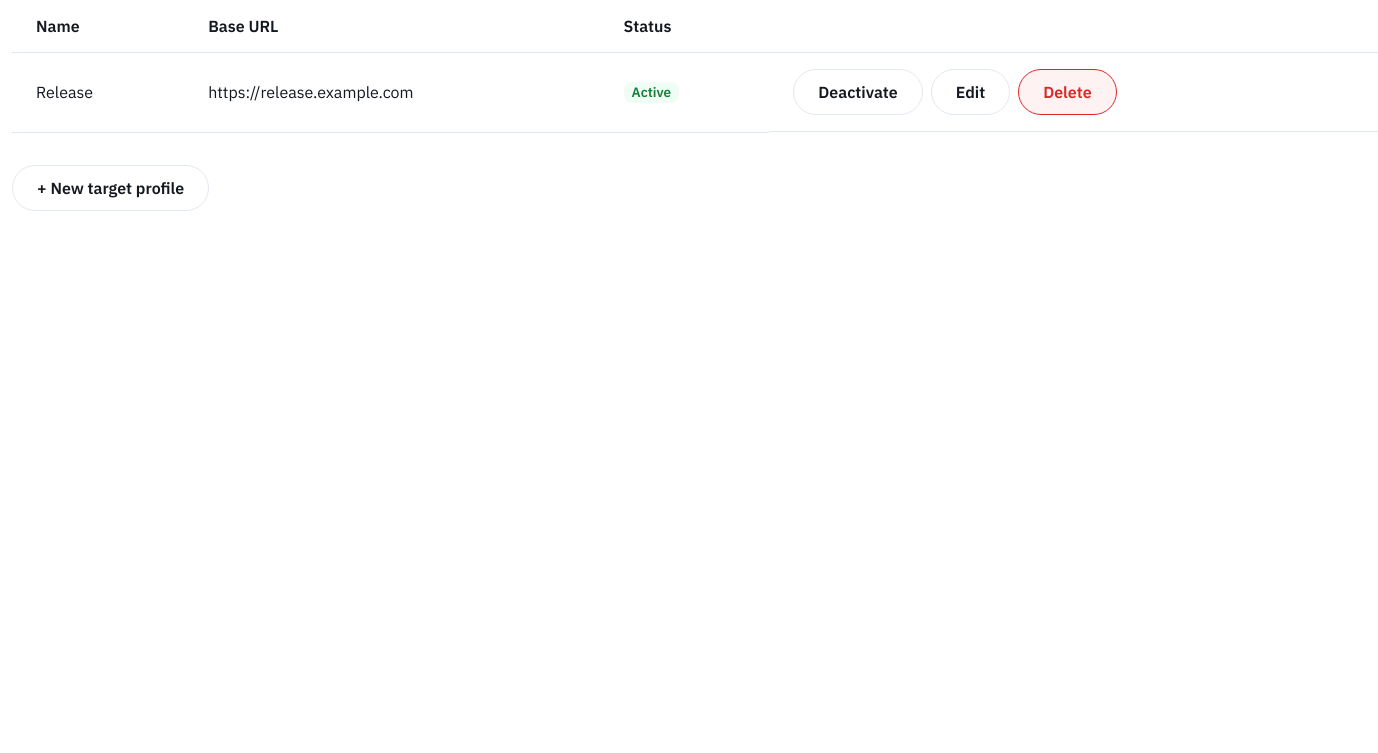
it: TargetProfileList (Settings page) › clicking Edit opens the form pre-filled with non-credential fields, credential inputs blank
The width and height of the screenshot is (1378, 753).
Expected: the text "Release" is shown, [12,52,184,132]
Click the button "Edit". click: (970, 92)
box: [931,69,1010,115]
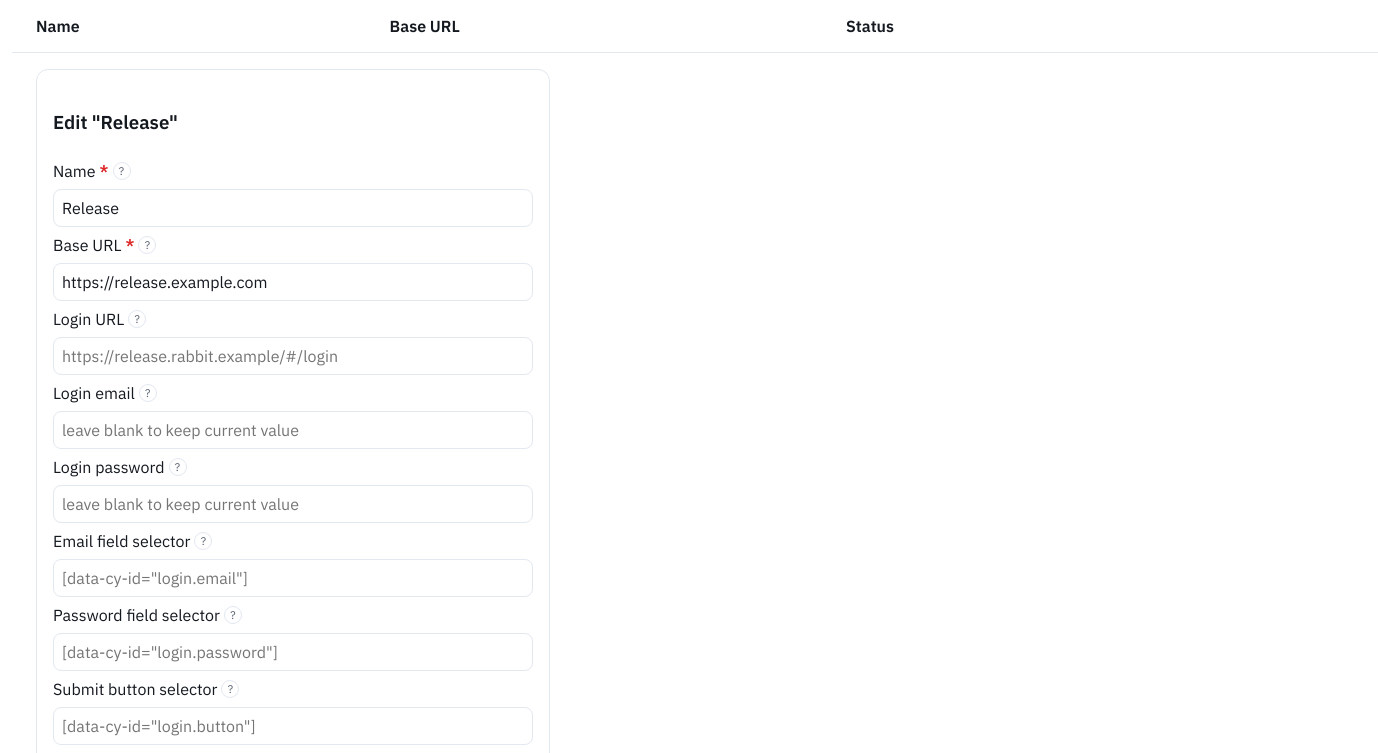
Expected: the field labelled "Name" holds "Release", [53,189,533,227]
Expected: the field labelled "Login email" is empty, [53,411,533,449]
Expected: the password field labelled "Login password" is empty, [53,485,533,523]
